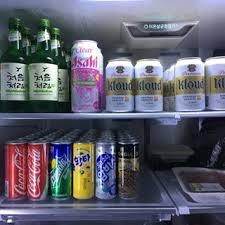soju: (1, 15, 71, 113)
